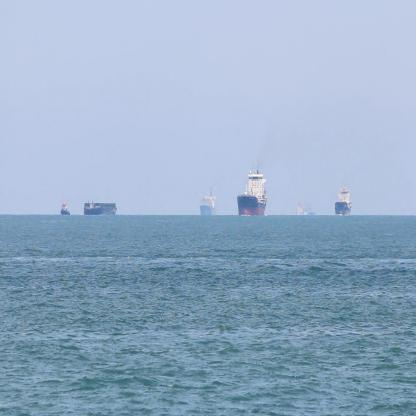Container Ship: (236, 160, 269, 219), (334, 178, 353, 220), (82, 196, 119, 216), (198, 185, 219, 220), (60, 201, 74, 218)
